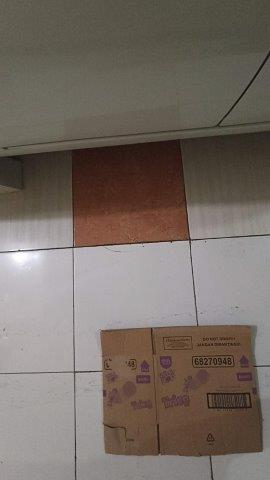kardus: (103, 326, 261, 453)
